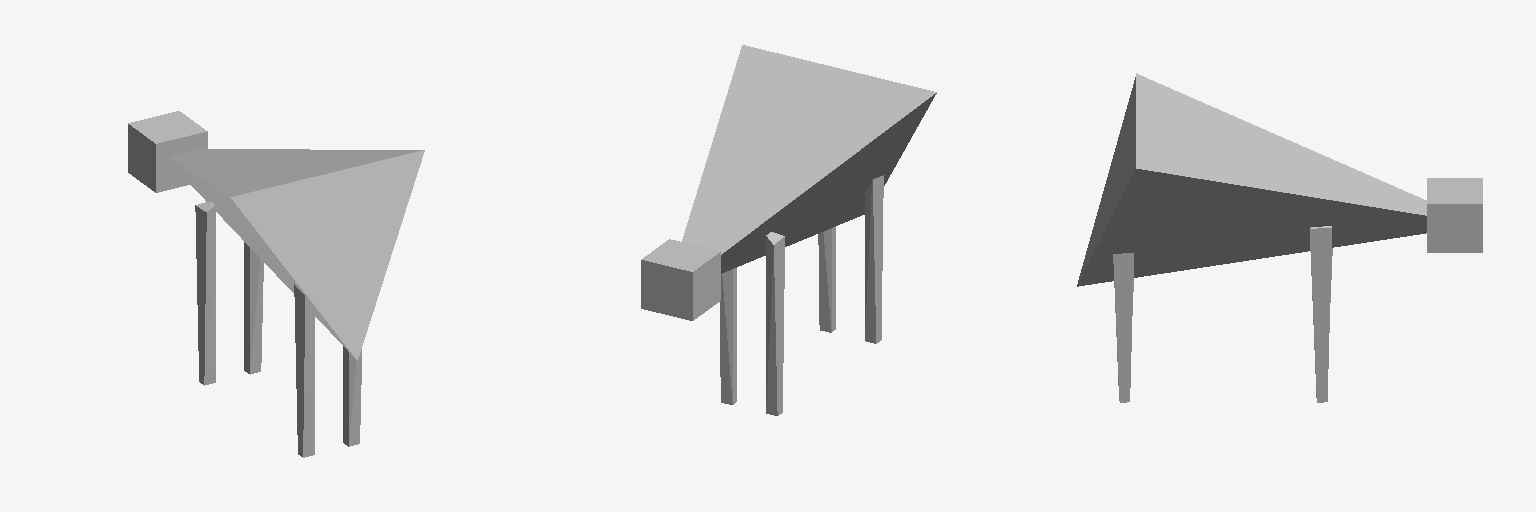
The model's file is test_mob.obj.
3 views of the same model, side by side, from view 1: azimuth 30°, elevation 25°; view 2: azimuth 150°, elevation 25°; view 3: azimuth 270°, elevation 25° (orthographic).
Parts seen in each view (by area): view 1: Cube.001; view 2: Cube.001; view 3: Cube.001.
Part boxes in pixels (x1,y1,x2,y2): Cube.001: (128,111,424,457); Cube.001: (641,45,936,415); Cube.001: (1077,73,1482,402).
Bounding box in the file's own units: 1.73 × 2.29 × 3.13.